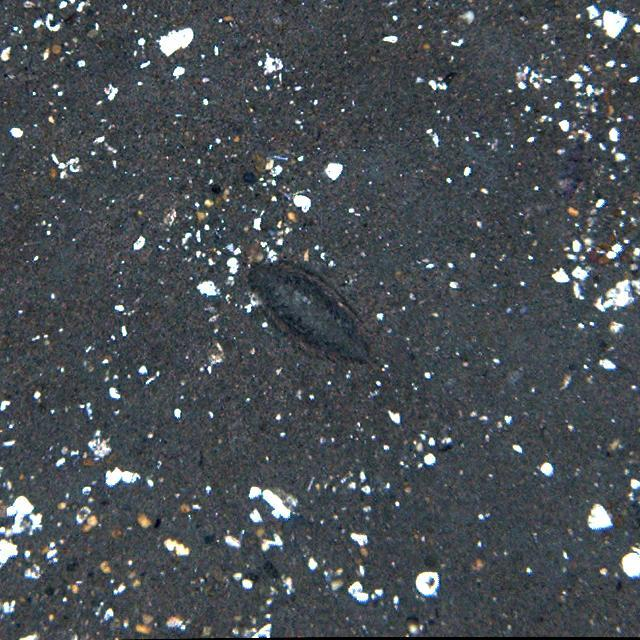flatfish: (248, 251, 378, 370)
